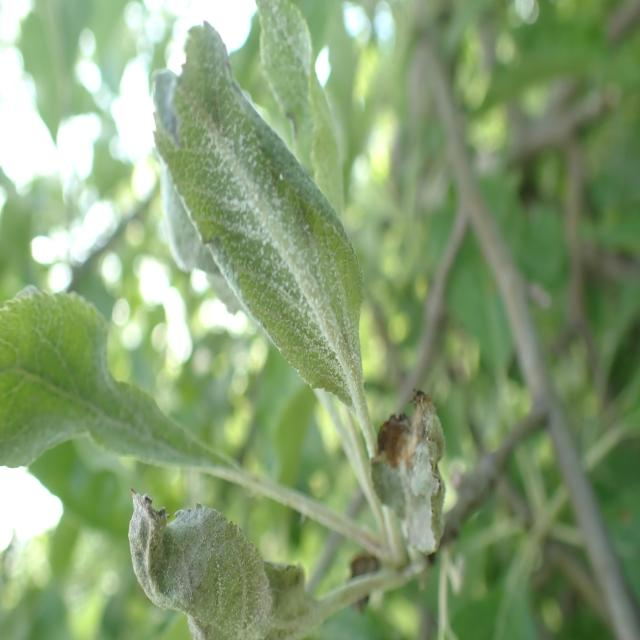Powdery_mildew: (147, 4, 382, 431), (0, 258, 306, 531), (110, 476, 374, 640), (370, 392, 462, 551)
